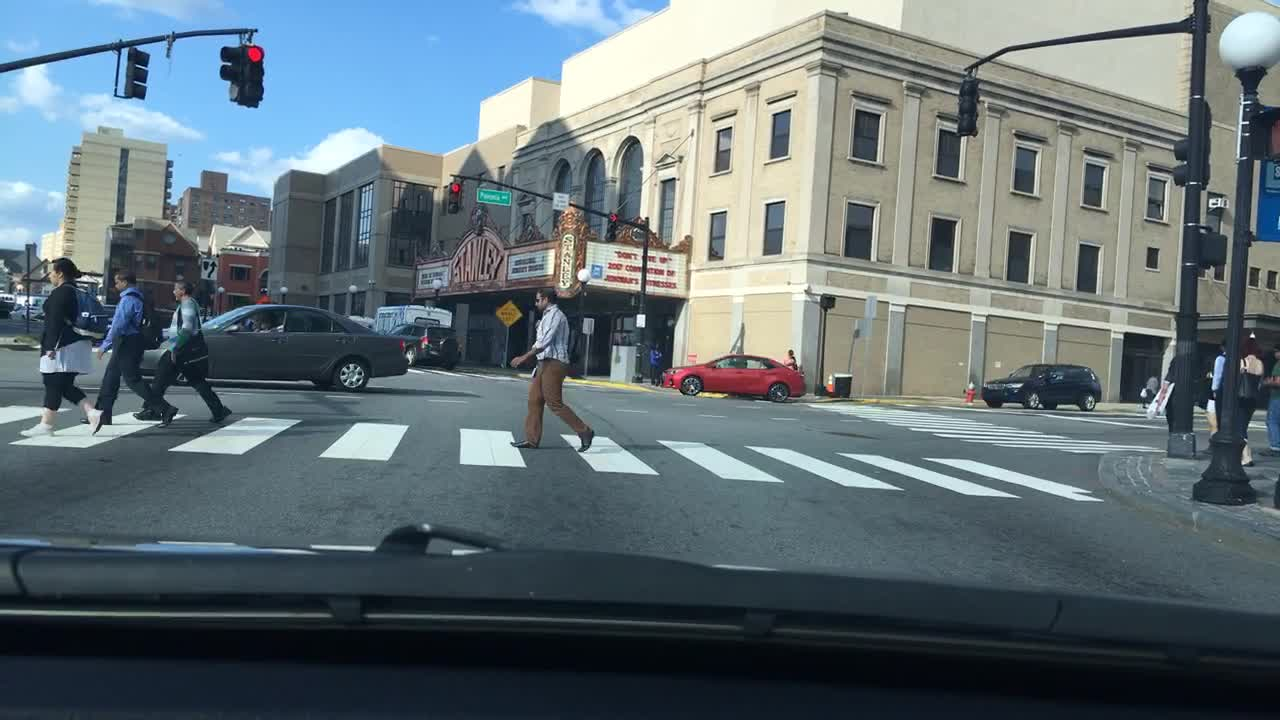car: (138, 303, 409, 394), (661, 354, 806, 404), (983, 362, 1103, 411), (133, 308, 210, 377), (386, 317, 461, 370), (347, 313, 377, 330), (9, 306, 42, 320), (102, 303, 115, 323), (0, 297, 9, 321)
person: (18, 256, 105, 446), (79, 269, 178, 428), (132, 280, 232, 424), (510, 286, 595, 453), (1149, 341, 1207, 435), (1239, 339, 1265, 467), (1259, 343, 1280, 459), (1207, 342, 1227, 435), (1140, 374, 1160, 411), (648, 343, 663, 387), (783, 348, 799, 372)
traffic light: (241, 41, 264, 106), (123, 47, 150, 99), (219, 44, 242, 102), (956, 76, 978, 136), (1255, 110, 1278, 161), (1200, 230, 1227, 267), (1172, 136, 1187, 186), (604, 210, 619, 242), (448, 180, 460, 213), (820, 295, 836, 308)
traffic sign: (495, 301, 523, 328), (476, 186, 512, 206), (553, 190, 570, 211), (856, 319, 873, 336), (582, 317, 596, 334), (635, 312, 646, 329)
truck: (375, 305, 452, 334)
